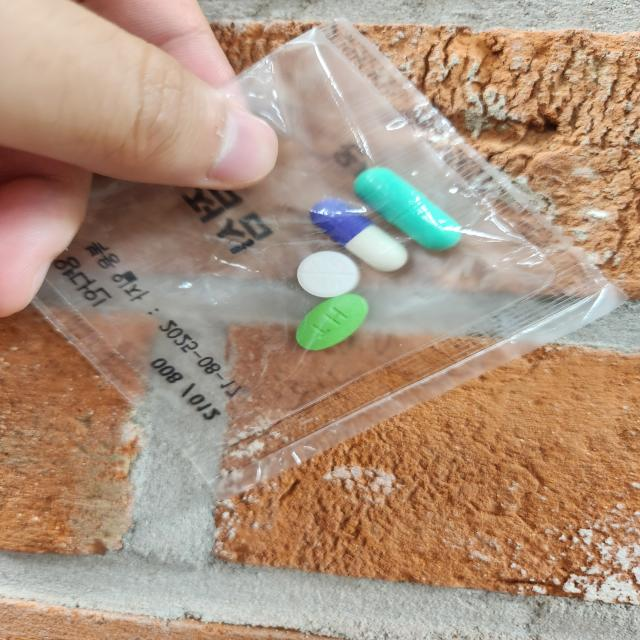러키펜정: (296, 250, 360, 301)
씨엠지세파클러캡슐: (308, 198, 410, 276)
에르도캡슐: (352, 166, 464, 254)
휴티렌정: (294, 295, 370, 354)
